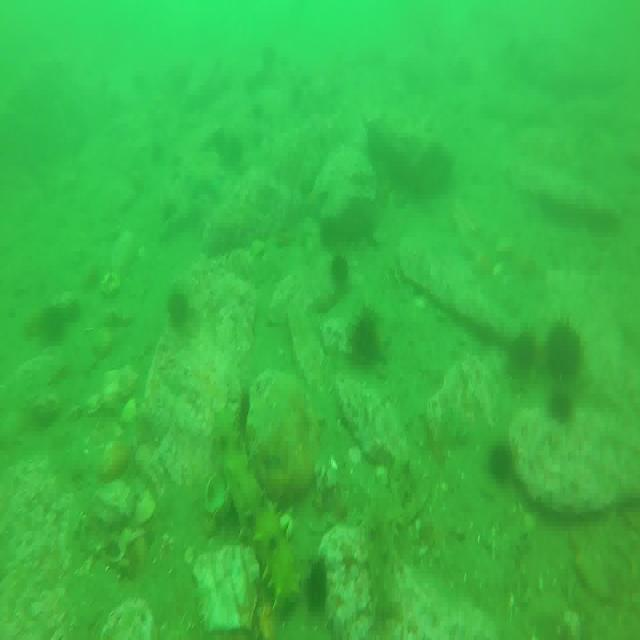echinus: (546, 318, 582, 387), (351, 307, 380, 367), (305, 555, 333, 609), (511, 330, 539, 373), (329, 244, 350, 292), (547, 388, 574, 423), (489, 438, 510, 478), (169, 292, 191, 330)
holothurian: (212, 405, 302, 607)
